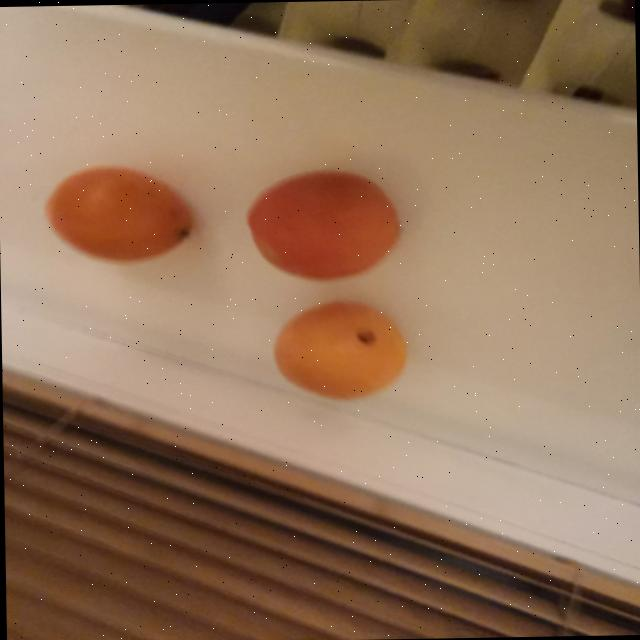orange: (246, 171, 398, 279), (45, 166, 192, 261), (274, 301, 406, 398)
